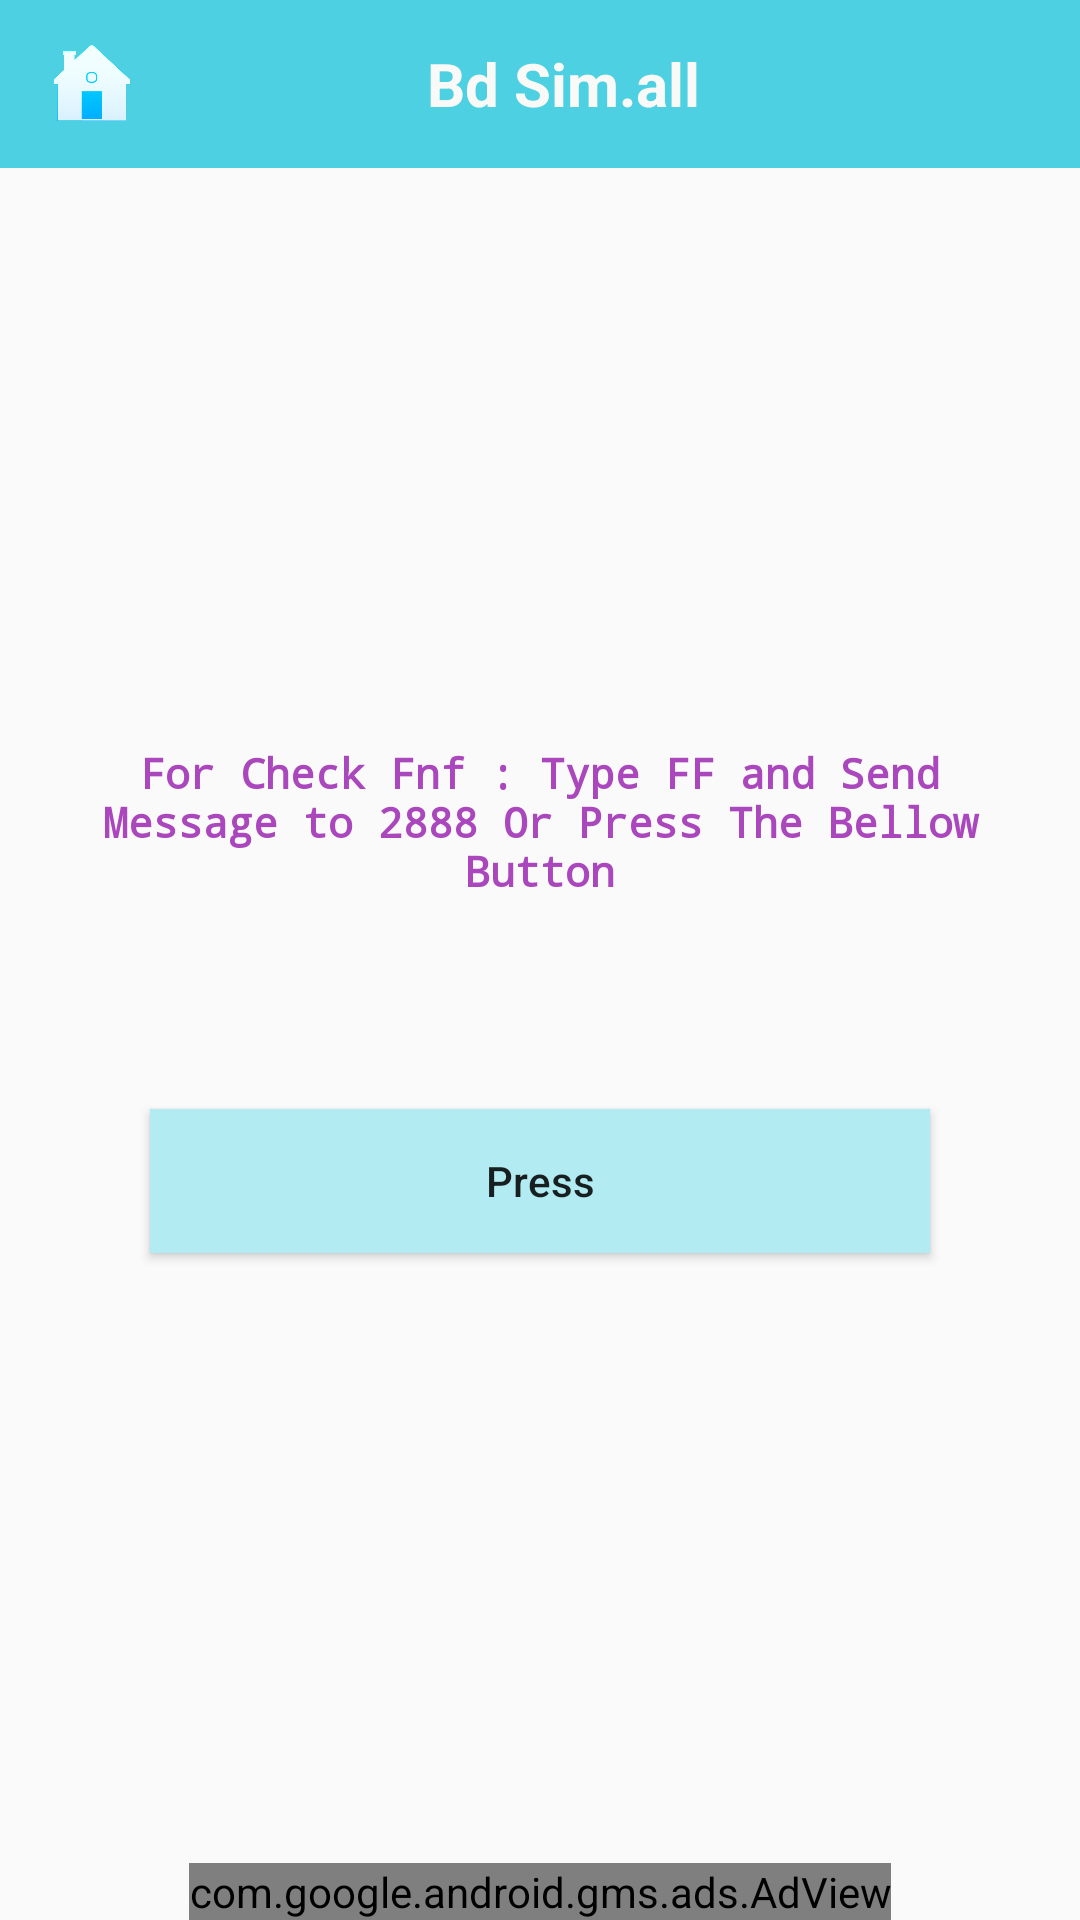

Icons on this 1080 x 1920 Android screen, each with its box as (x1, y1, x2, y2):
home: (54, 45, 130, 121)
